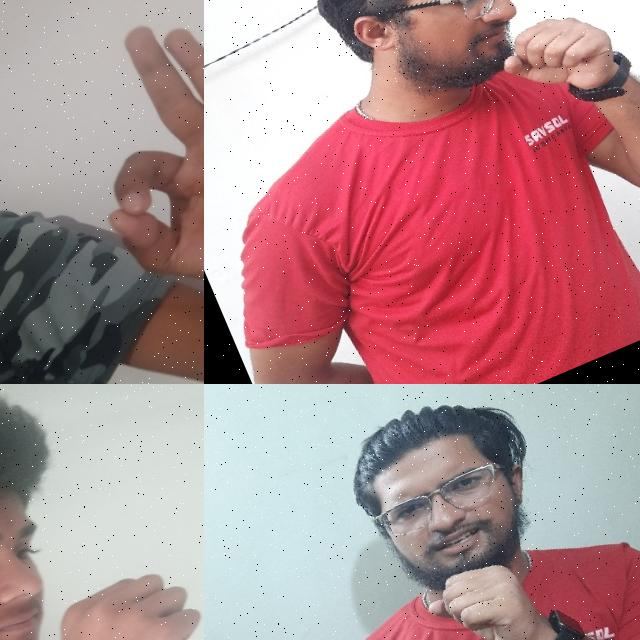Fist Mouth: (317, 384, 611, 640), (304, 0, 640, 183), (0, 384, 204, 640)
Okay: (38, 0, 204, 352)
